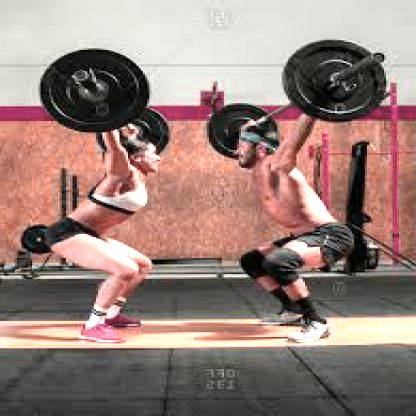Barbell: (68, 69, 87, 85), (367, 52, 385, 65)
